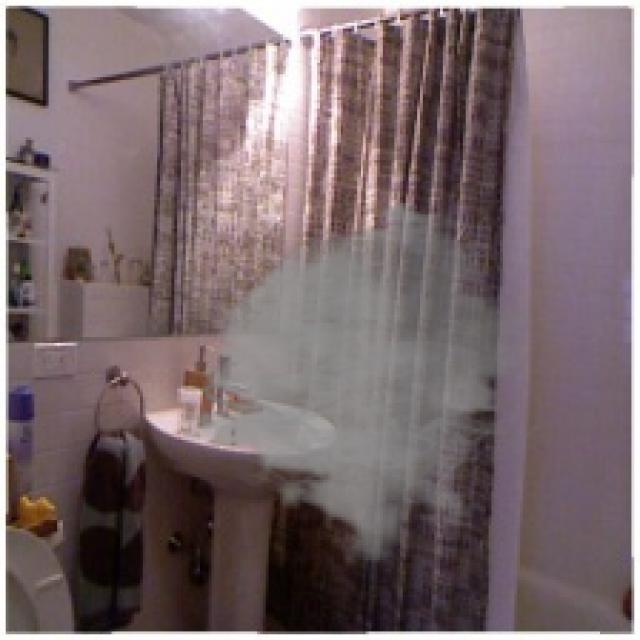smoke: (166, 200, 563, 566)
